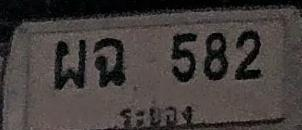2: (235, 29, 261, 79)
5: (171, 32, 197, 82)
8: (204, 32, 228, 80)
A09: (94, 37, 126, 86)
A28: (54, 39, 86, 89)
RYG: (116, 101, 195, 126)
